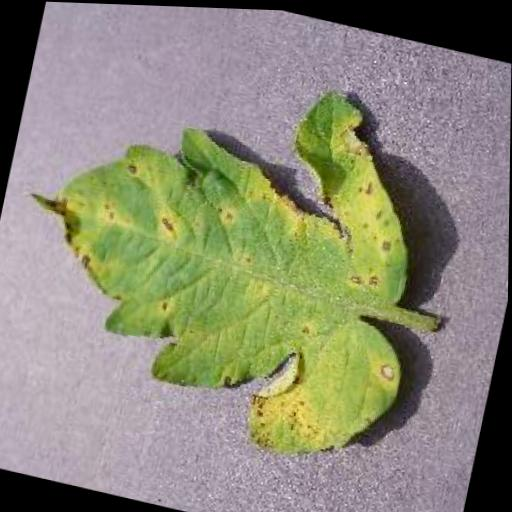Septoria: (0, 22, 458, 476)
